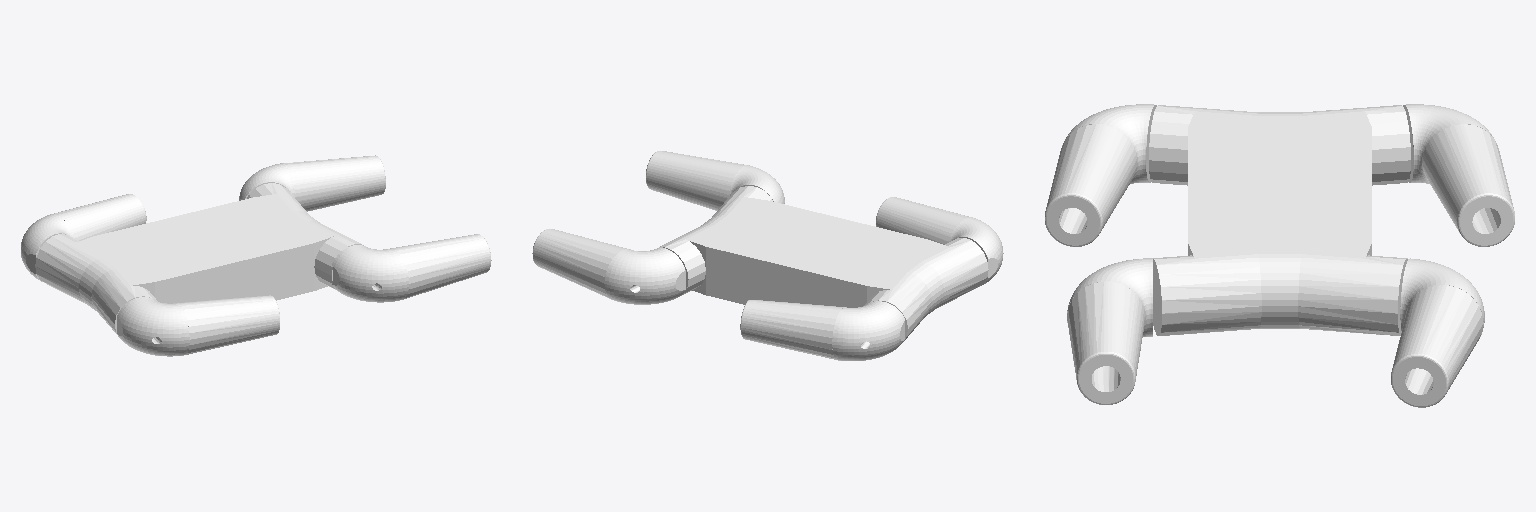
robot.urdf — 10_degree:
<?xml version="1.0" encoding="utf-8"?>
<!-- This URDF was automatically created by SolidWorks to URDF Exporter! Originally created by [author] ([email redacted]) 
     Commit Version: 1.5.1-0-g916b5db  Build Version: 1.5.7152.31018
     For more information, please see http://wiki.ros.org/sw_urdf_exporter -->
<robot
  name="10_degree">
  <link
    name="base_link">
    <inertial>
      <origin
        xyz="6.9389E-18 2.5386E-08 5.2042E-18"
        rpy="0 0 0" />
      <mass
        value="2.942" />
      <inertia
        ixx="0.000101715"
        ixy="-2.7363E-18"
        ixz="-1.5243E-10"
        iyy="0.0411603"
        iyz="2.8056E-18"
        izz="0.0489398" />
    </inertial>
    <visual>
      <origin
        xyz="0 0 0"
        rpy="0 0 0" />
      <geometry>
        <mesh
          filename="package://10_degree/meshes/base_link.STL" />
      </geometry>
      <material
        name="">
        <color
          rgba="1 1 1 1" />
      </material>
    </visual>
    <collision>
      <origin
        xyz="0 0 0"
        rpy="0 0 0" />
      <geometry>
        <mesh
          filename="package://10_degree/meshes/base_link.STL" />
      </geometry>
    </collision>
  </link>
  <link
    name="left_front_link">
    <inertial>
      <origin
        xyz="-2.4436E-08 0.062219 -0.025595"
        rpy="0 0 0" />
      <mass
        value="0.092" />
      <inertia
        ixx="0.0002604"
        ixy="3.9679E-10"
        ixz="1.0027E-09"
        iyy="0.0000510"
        iyz="-1.37E-05"
        izz="0.0002591" />
    </inertial>
    <visual>
      <origin
        xyz="0 0 0"
        rpy="0 0 0" />
      <geometry>
        <mesh
          filename="package://10_degree/meshes/left_front_link.STL" />
      </geometry>
      <material
        name="">
        <color
          rgba="1 1 1 1" />
      </material>
    </visual>
    <collision>
      <origin
        xyz="0 0 0"
        rpy="0 0 0" />
      <geometry>
        <mesh
          filename="package://10_degree/meshes/left_front_link.STL" />
      </geometry>
    </collision>
  </link>
  <joint
    name="left_front_leg"
    type="continuous">
    <origin
      xyz="0.14789 0.10144 0"
      rpy="1.5708 1.5708 0" />
    <parent
      link="base_link" />
    <child
      link="left_front_link" />
    <axis
      xyz="0 0.17365 -0.98481" />
    <limit
      effort="5"
      velocity="487" />
  </joint>
  <link
    name="right_front_link">
    <inertial>
      <origin
        xyz="2.4436E-08 0.062219 0.025595"
        rpy="0 0 0" />
      <mass
        value="0.092" />
      <inertia
        ixx="0.0002604"
        ixy="-3.9679E-10"
        ixz="1.0027E-09"
        iyy="0.0000510"
        iyz="1.37E-05"
        izz="0.0002591" />
    </inertial>
    <visual>
      <origin
        xyz="0 0 0"
        rpy="0 0 0" />
      <geometry>
        <mesh
          filename="package://10_degree/meshes/right_front_link.STL" />
      </geometry>
      <material
        name="">
        <color
          rgba="1 1 1 1" />
      </material>
    </visual>
    <collision>
      <origin
        xyz="0 0 0"
        rpy="0 0 0" />
      <geometry>
        <mesh
          filename="package://10_degree/meshes/right_front_link.STL" />
      </geometry>
    </collision>
  </link>
  <joint
    name="right_front_leg"
    type="continuous">
    <origin
      xyz="0.14789 -0.10144 0"
      rpy="1.5708 1.5708 0" />
    <parent
      link="base_link" />
    <child
      link="right_front_link" />
    <axis
      xyz="0 0.17365 0.98481" />
    <limit
      effort="5"
      velocity="487" />
  </joint>
  <link
    name="right_back_link">
    <inertial>
      <origin
        xyz="5.7759E-09 0.05683 0.03601"
        rpy="0 0 0" />
      <mass
        value="0.092" />
      <inertia
        ixx="0.0002604"
        ixy="-5.3462E-10"
        ixz="5.876E-10"
        iyy="0.0000526"
        iyz="-2.27E-05"
        izz="0.0002575" />
    </inertial>
    <visual>
      <origin
        xyz="0 0 0"
        rpy="0 0 0" />
      <geometry>
        <mesh
          filename="package://10_degree/meshes/right_back_link.STL" />
      </geometry>
      <material
        name="">
        <color
          rgba="1 1 1 1" />
      </material>
    </visual>
    <collision>
      <origin
        xyz="0 0 0"
        rpy="0 0 0" />
      <geometry>
        <mesh
          filename="package://10_degree/meshes/right_back_link.STL" />
      </geometry>
    </collision>
  </link>
  <joint
    name="right_back_leg"
    type="continuous">
    <origin
      xyz="-0.14789 -0.10144 0"
      rpy="1.7453 1.5708 0" />
    <parent
      link="base_link" />
    <child
      link="right_back_link" />
    <axis
      xyz="0 0 1" />
    <limit
      effort="5"
      velocity="487" />
  </joint>
  <link
    name="left_back_link">
    <inertial>
      <origin
        xyz="-5.7759E-09 0.049714 -0.045332"
        rpy="0 0 0" />
      <mass
        value="0.092" />
      <inertia
        ixx="0.0002604"
        ixy="6.2854E-10"
        ixz="4.8584E-10"
        iyy="0.0000665"
        iyz="0.0000563"
        izz="0.0002436" />
    </inertial>
    <visual>
      <origin
        xyz="0 0 0"
        rpy="0 0 0" />
      <geometry>
        <mesh
          filename="package://10_degree/meshes/left_back_link.STL" />
      </geometry>
      <material
        name="">
        <color
          rgba="1 1 1 1" />
      </material>
    </visual>
    <collision>
      <origin
        xyz="0 0 0"
        rpy="0 0 0" />
      <geometry>
        <mesh
          filename="package://10_degree/meshes/left_back_link.STL" />
      </geometry>
    </collision>
  </link>
  <joint
    name="left_back_leg"
    type="continuous">
    <origin
      xyz="-0.14789 0.10144 0"
      rpy="1.5708 1.5708 0" />
    <parent
      link="base_link" />
    <child
      link="left_back_link" />
    <axis
      xyz="0 -0.17365 -0.98481" />
    <limit
      effort="5"
      velocity="487" />
  </joint>
</robot>

--- Render facts (derived) ---
The picture shows the robot from 3 angles, left to right: view 1: azimuth 30°, elevation 25°; view 2: azimuth 150°, elevation 25°; view 3: azimuth 270°, elevation 25°; orthographic projection.
Model 10_degree with 5 links and 4 joints (4 continuous), rooted at base_link, posed every joint at zero.
Visible links, largest first — view 1: base_link, right_back_link, right_front_link, left_front_link, left_back_link; view 2: base_link, left_back_link, left_front_link, right_front_link, right_back_link; view 3: base_link, right_back_link, left_back_link, left_front_link, right_front_link.
Link boxes in pixels (x1,y1,x2,y2): base_link: (35, 183, 363, 336); right_back_link: (117, 295, 279, 356); right_front_link: (332, 234, 491, 302); left_front_link: (239, 155, 385, 211); left_back_link: (21, 194, 146, 281); base_link: (659, 186, 988, 339); left_back_link: (740, 300, 904, 360); left_front_link: (532, 229, 685, 304); right_front_link: (646, 151, 784, 210); right_back_link: (876, 197, 1003, 285); base_link: (1149, 105, 1410, 335); right_back_link: (1045, 104, 1156, 246); left_back_link: (1403, 104, 1514, 246); left_front_link: (1391, 258, 1484, 407); right_front_link: (1067, 258, 1152, 404).
Size in the robot's own frame: 0.4948 by 0.3838 by 0.064 metres.
Meshes: 5 distinct files referenced, 5 mesh visuals loaded (5 binary STL).